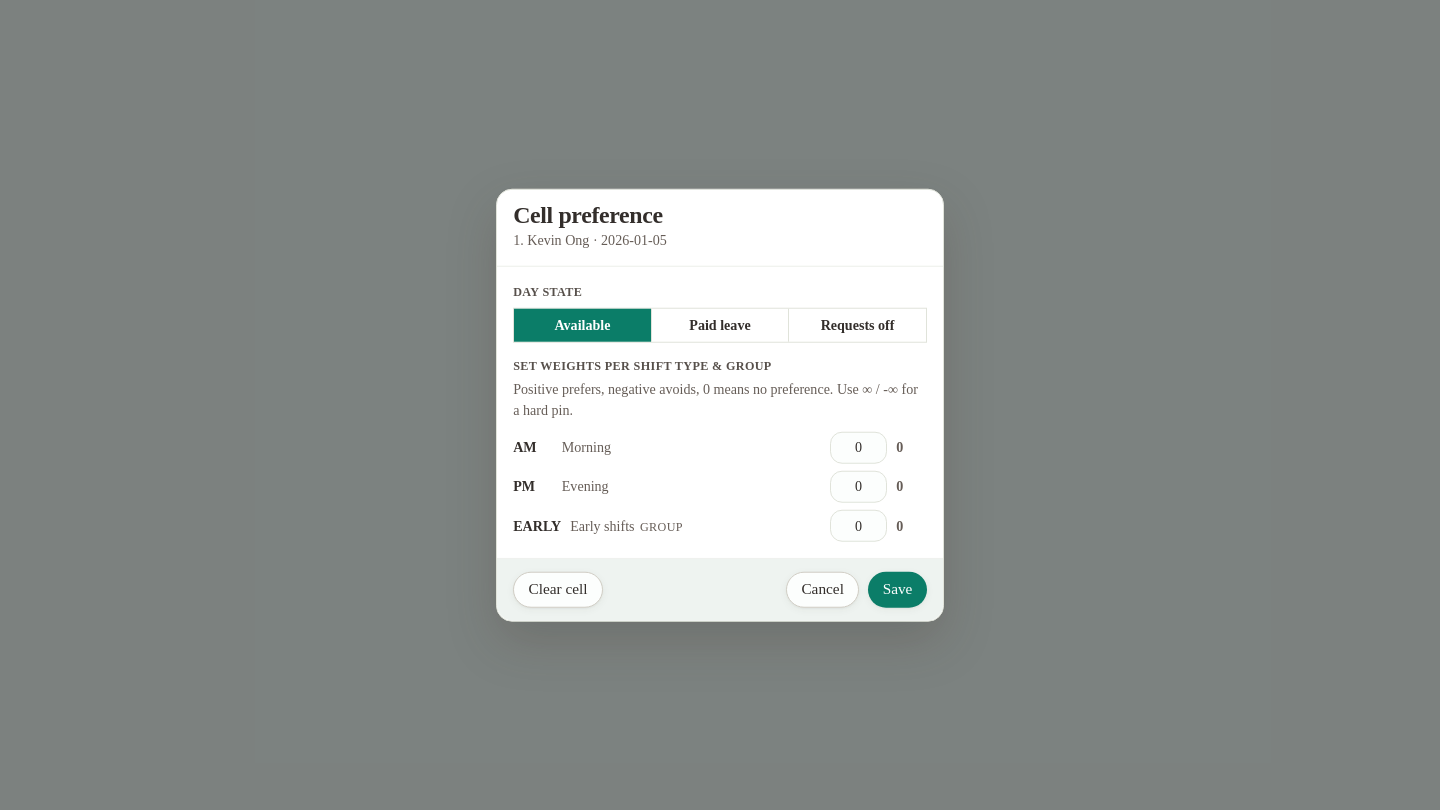
Test case: CellPreferenceEditor — save (strict XOR, FR-SR-17/21-23) › blocks Save with the verbatim invalid-weight guard on the Off tab too
Click the tab with test id "cell-editor-tab-off" at (857, 325), box top-left (788, 309), bottom-right (926, 341)
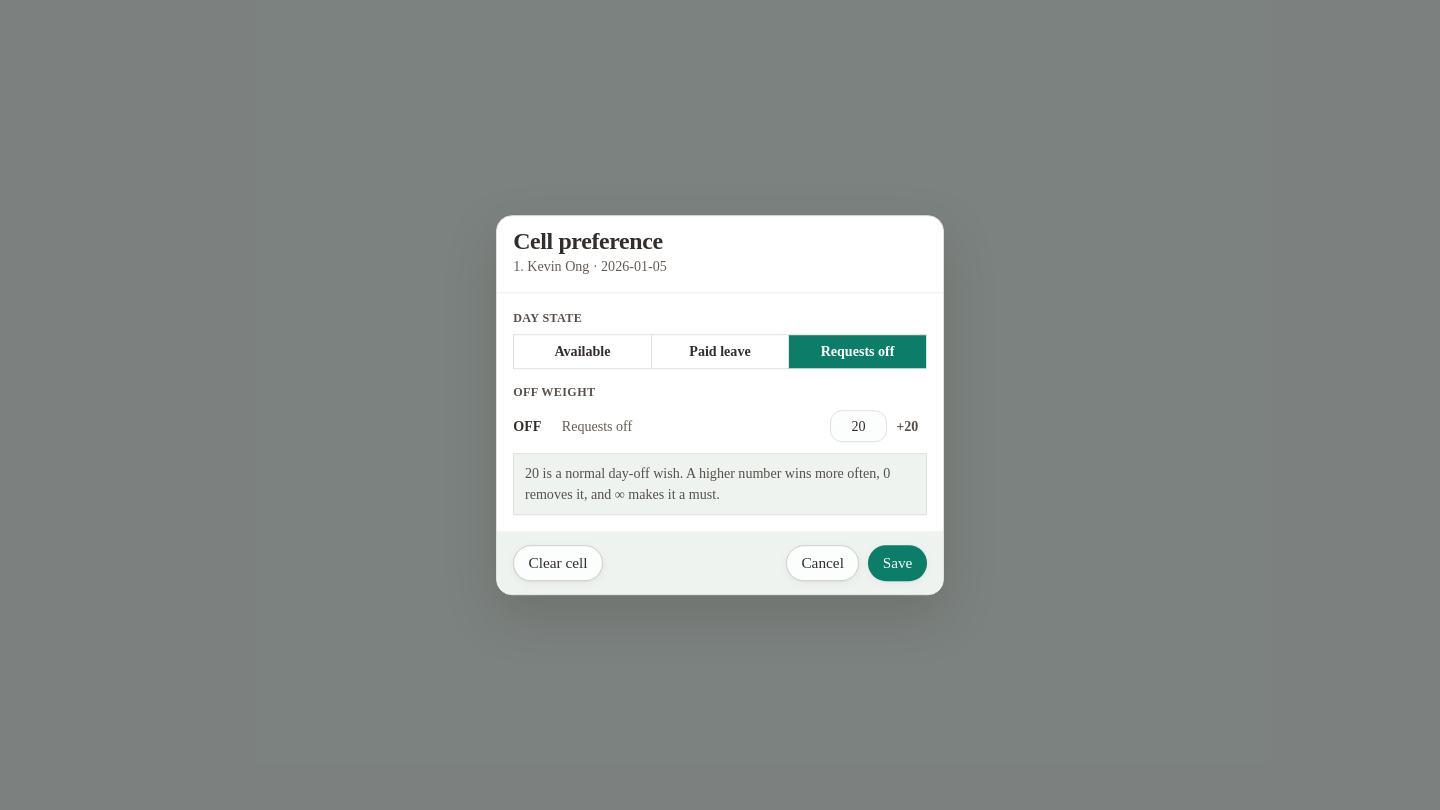
Replace the text in the field with test id "cell-editor-off-weight-input" with "garbage" at (858, 426), box top-left (830, 410), bottom-right (887, 442)
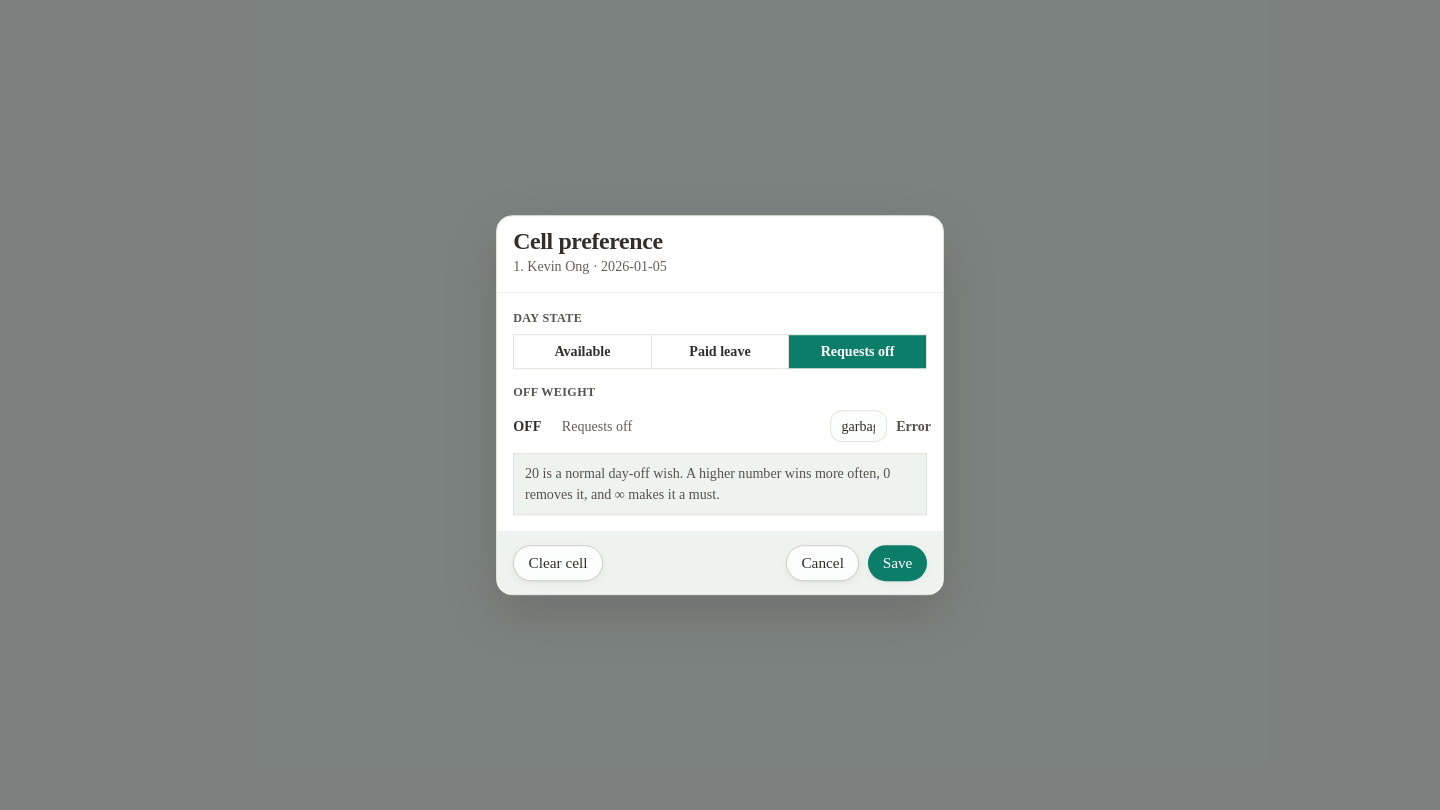
Click the button with test id "cell-editor-save" at (898, 563), box top-left (868, 545), bottom-right (927, 581)
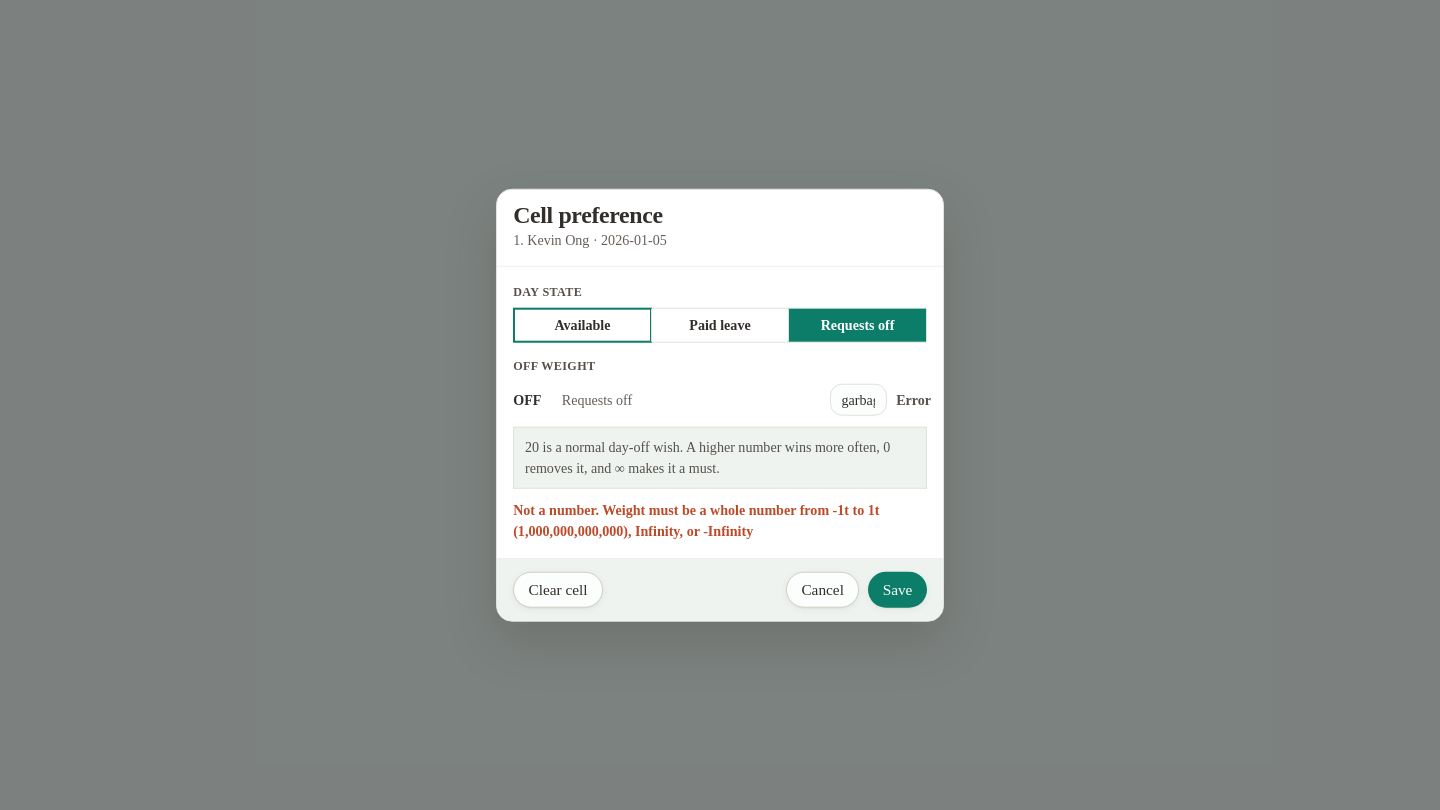
Now the message with test id "cell-editor-error" shows "Weight must be a whole number from -1t to 1t (1,000,000,000,000), Infinity, or -Infinity", box top-left (513, 502), bottom-right (880, 539)
